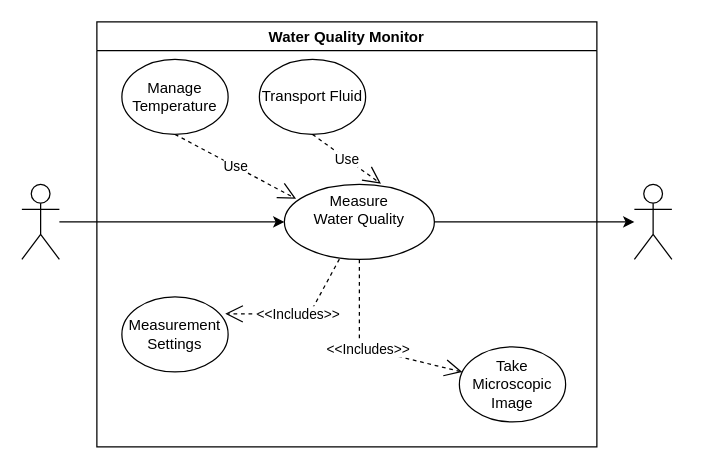
Image size: 726x469. Some labels were removed from this diagram. Each missing label, with the centre of its shape:
Actor: the point at 40,221
Server Solution: the point at 652,221
